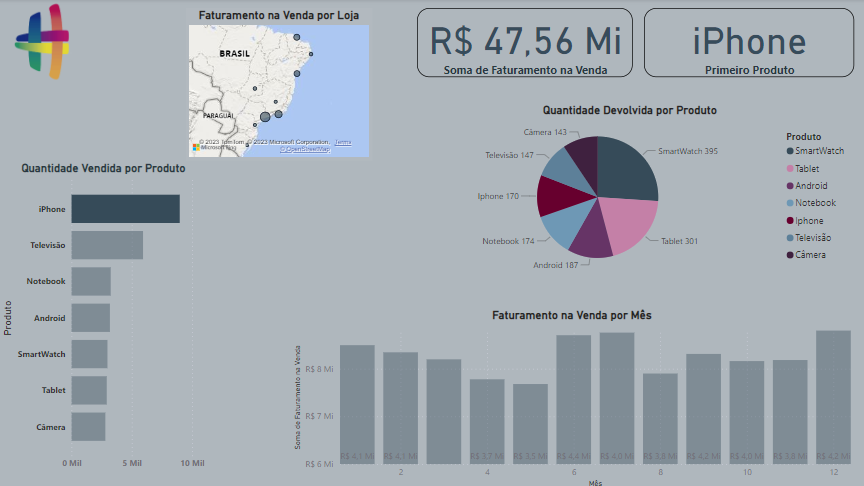

The dashboard page shown, as its layout file describes it:
{"tool":"powerbi","page":{"name":"Página 1","canvas":[1280,720],"ordinal":0},"visuals":[{"type":"image","box":[10.1,0,194.9,194.9],"z":0},{"type":"barChart","title":"Quantidade Vendida por Produto","fields":{"Y":["Sum(Base Vendas.Quantidade Vendida)"],"Category":["Base Vendas.Produto"]},"box":[10.2,236.6,305.2,460],"z":1000},{"type":"card","fields":{"Values":["Sum(Base Vendas.Faturamento na Venda)"]},"box":[639.7,13.1,315.5,100.8],"z":2000},{"type":"card","fields":{"Values":["Min(Base Vendas.Produto)"]},"box":[972.7,13.1,306.7,100.8],"z":3000},{"type":"columnChart","title":"Faturamento na Venda por Mês","fields":{"Y":["Sum(Base Vendas.Faturamento na Venda)"],"Category":["Base Vendas.Mês"]},"box":[435.2,467.3,823.7,251.2],"z":4000},{"type":"pieChart","title":"Quantidade Devolvida por Produto","fields":{"Y":["Sum(Base Devoluções.Quantidade Devolvida)"],"Category":["Base Devoluções.Produto"]},"box":[604.6,151.9,592.9,235.1],"z":5000},{"type":"map","title":"Faturamento na Venda por Loja","fields":{"Category":["Base Vendas.Loja"],"Size":["Sum(Base Vendas.Faturamento na Venda)"]},"box":[330.1,13.1,286.2,277.5],"z":6000}]}

Visuals, with their boxes in screenshot pixels (x1, y1, x2, y2), scaled from the page's 1280x720 canvas onto the 864x486 screenshot:
image: [7,0,138,132]
"Quantidade Vendida por Produto" barChart: [7,160,213,470]
card - Sum(Base Vendas.Faturamento na Venda): [432,9,645,77]
card - Min(Base Vendas.Produto): [657,9,863,77]
"Faturamento na Venda por Mês" columnChart: [294,315,850,485]
"Quantidade Devolvida por Produto" pieChart: [408,103,808,261]
"Faturamento na Venda por Loja" map: [223,9,416,196]
